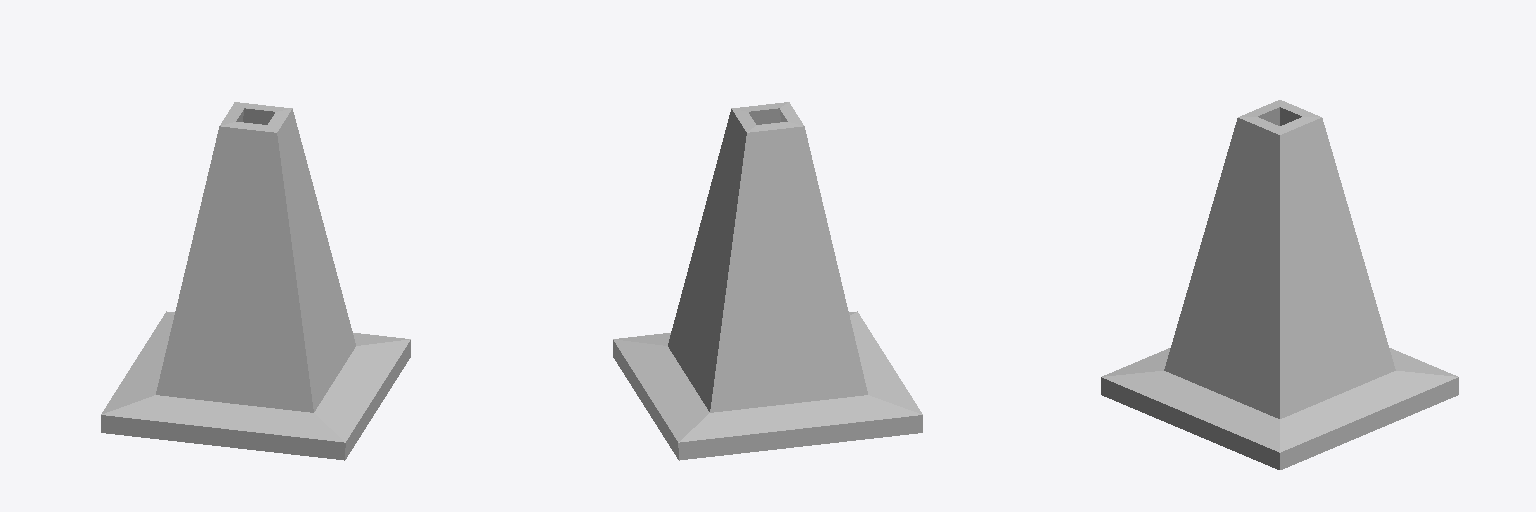
Rendered from control.obj.
The picture shows the model from 3 angles: view 1: azimuth 30°, elevation 25°; view 2: azimuth 150°, elevation 25°; view 3: azimuth 270°, elevation 25°; orthographic projection.
Visible parts, largest first — view 1: Traffic_cone; view 2: Traffic_cone; view 3: Traffic_cone.
Part boxes in pixels (x1,y1,x2,y2): Traffic_cone: (101,102,410,460); Traffic_cone: (613,102,922,460); Traffic_cone: (1101,100,1458,469).
Bounding box in the file's own units: 0.4817 × 0.413 × 0.4817.